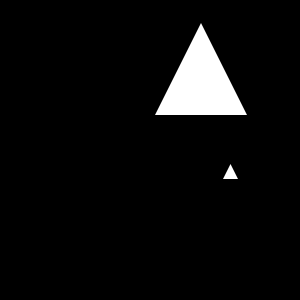triangle: (155, 23, 247, 115), (223, 164, 238, 179)
